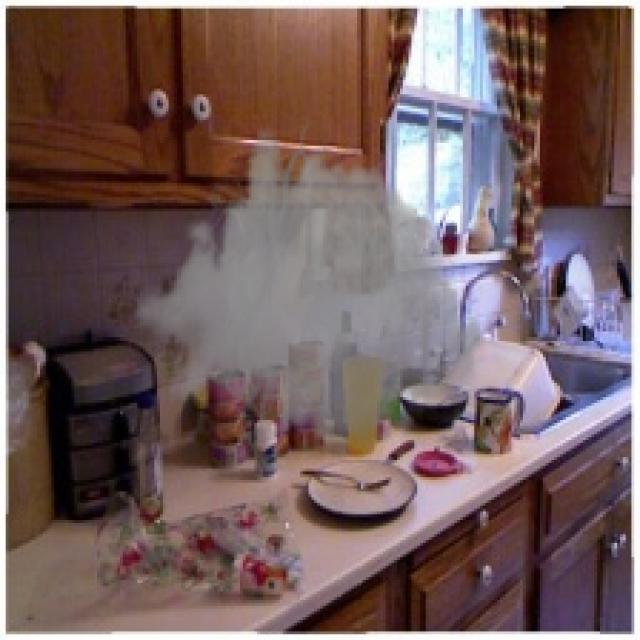Smoke: (131, 114, 486, 489)
